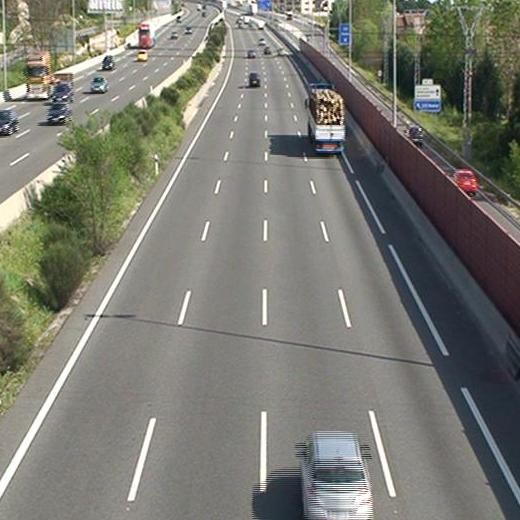car: (299, 434, 373, 520), (249, 73, 260, 87), (246, 49, 255, 58)
truck: (306, 82, 344, 153)
